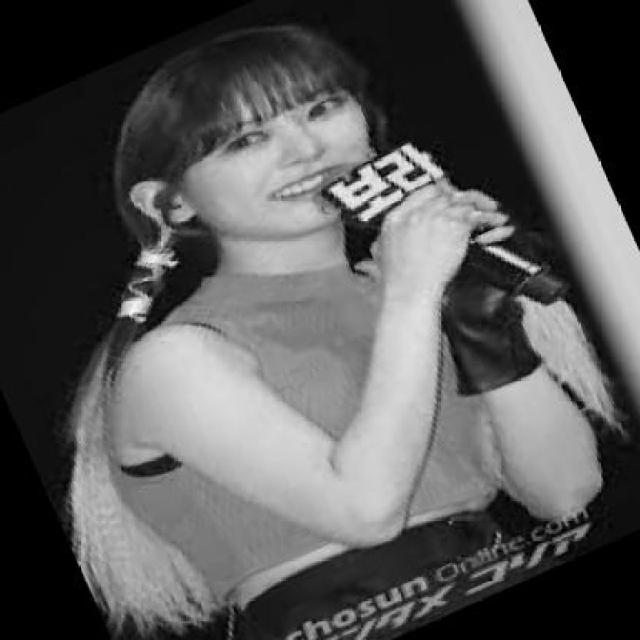earphone: (146, 182, 192, 230)
